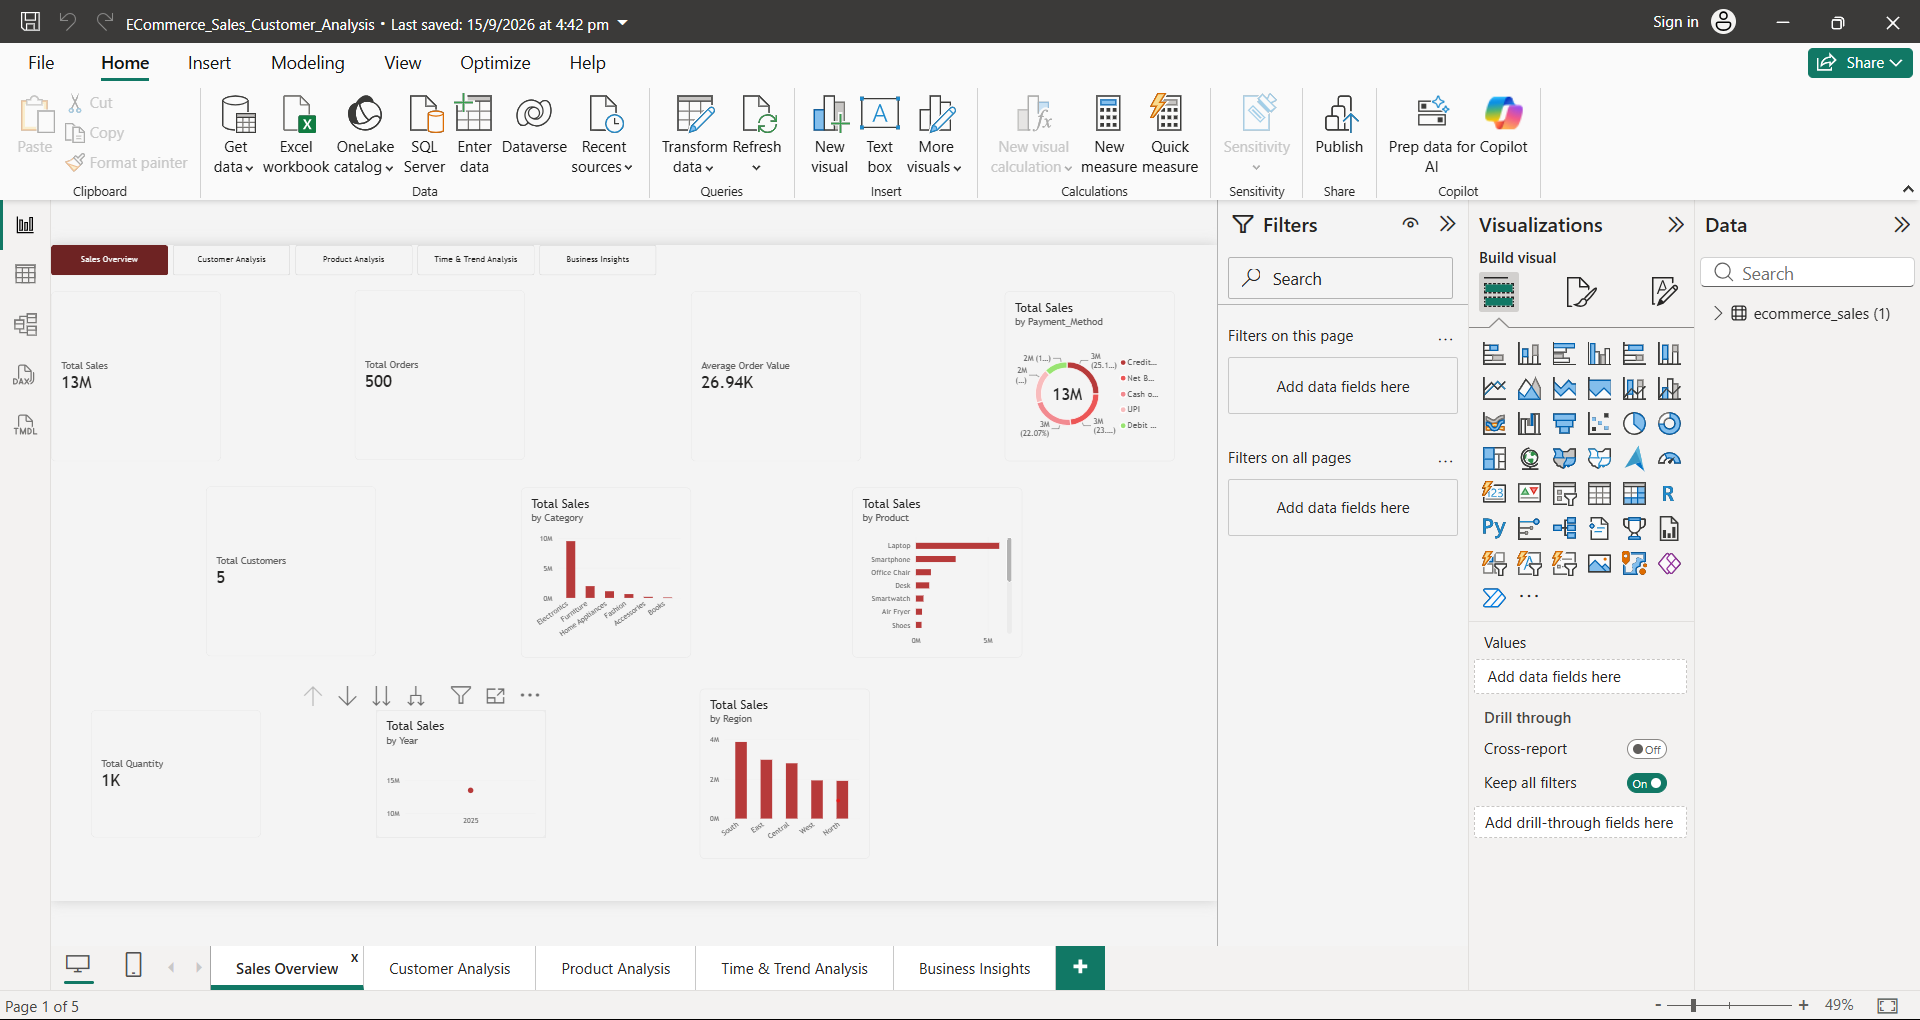

The page's visual inventory and layout, read from the dashboard file:
{"tool":"powerbi","page":{"name":"Sales Overview","canvas":[1920,1080],"ordinal":0},"visuals":[{"type":"cardVisual","fields":{"Data":["ecommerce_sales (1).Total Sales"]},"box":[0,77,280,280],"z":0},{"type":"cardVisual","fields":{"Data":["ecommerce_sales (1).Total Orders"]},"box":[500.3,74.8,280,280],"z":1000},{"type":"cardVisual","fields":{"Data":["ecommerce_sales (1).Total Customers"]},"box":[254.4,397.7,280,280],"z":2000},{"type":"cardVisual","fields":{"Data":["ecommerce_sales (1).Total Quantity"]},"box":[66.3,765.4,280,210],"z":3000},{"type":"cardVisual","fields":{"Data":["ecommerce_sales (1).Average Order Value"]},"box":[1054.1,77,280,280],"z":4000},{"type":"clusteredColumnChart","fields":{"Category":["ecommerce_sales (1).Category"],"Y":["ecommerce_sales (1).Total Sales"]},"box":[774,399.8,280,280],"z":5000},{"type":"clusteredColumnChart","fields":{"Category":["ecommerce_sales (1).Region"],"Y":["ecommerce_sales (1).Total Sales"]},"box":[1069,731.2,280,280],"z":6000},{"type":"lineChart","fields":{"Category":["ecommerce_sales (1).Order_Date.Variation.Date Hierarchy.Year","ecommerce_sales (1).Order_Date.Variation.Date Hierarchy.Quarter","ecommerce_sales (1).Order_Date.Variation.Date Hierarchy.Month","ecommerce_sales (1).Order_Date.Variation.Date Hierarchy.Day"],"Y":["ecommerce_sales (1).Total Sales"]},"box":[534.5,765.4,280,210],"z":7000},{"type":"donutChart","fields":{"Category":["ecommerce_sales (1).Payment_Method"],"Y":["ecommerce_sales (1).Total Sales"]},"box":[1571.5,77,280,280],"z":8000},{"type":"clusteredBarChart","fields":{"Category":["ecommerce_sales (1).Product"],"Y":["ecommerce_sales (1).Total Sales"]},"box":[1319.2,399.8,280,280],"z":9000},{"type":"pageNavigator","box":[0,0,1000,50],"z":9001}]}

Visuals, with their boxes on the page's 1920x1080 design canvas (x1, y1, x2, y2). These are canvas units, not pixel positions in the 1920x1020 screenshot, which may show the page scaled, cropped or inside an application window:
cardVisual - ecommerce_sales (1).Total Sales: 0:77:280:357
cardVisual - ecommerce_sales (1).Total Orders: 500:75:780:355
cardVisual - ecommerce_sales (1).Total Customers: 254:398:534:678
cardVisual - ecommerce_sales (1).Total Quantity: 66:765:346:975
cardVisual - ecommerce_sales (1).Average Order Value: 1054:77:1334:357
clusteredColumnChart - ecommerce_sales (1).Category x ecommerce_sales (1).Total Sales: 774:400:1054:680
clusteredColumnChart - ecommerce_sales (1).Region x ecommerce_sales (1).Total Sales: 1069:731:1349:1011
lineChart - ecommerce_sales (1).Order_Date.Variation.Date Hierarchy.Year x ecommerce_sales (1).Order_Date.Variation.Date Hierarchy.Quarter: 534:765:814:975
donutChart - ecommerce_sales (1).Payment_Method x ecommerce_sales (1).Total Sales: 1572:77:1852:357
clusteredBarChart - ecommerce_sales (1).Product x ecommerce_sales (1).Total Sales: 1319:400:1599:680
pageNavigator: 0:0:1000:50
